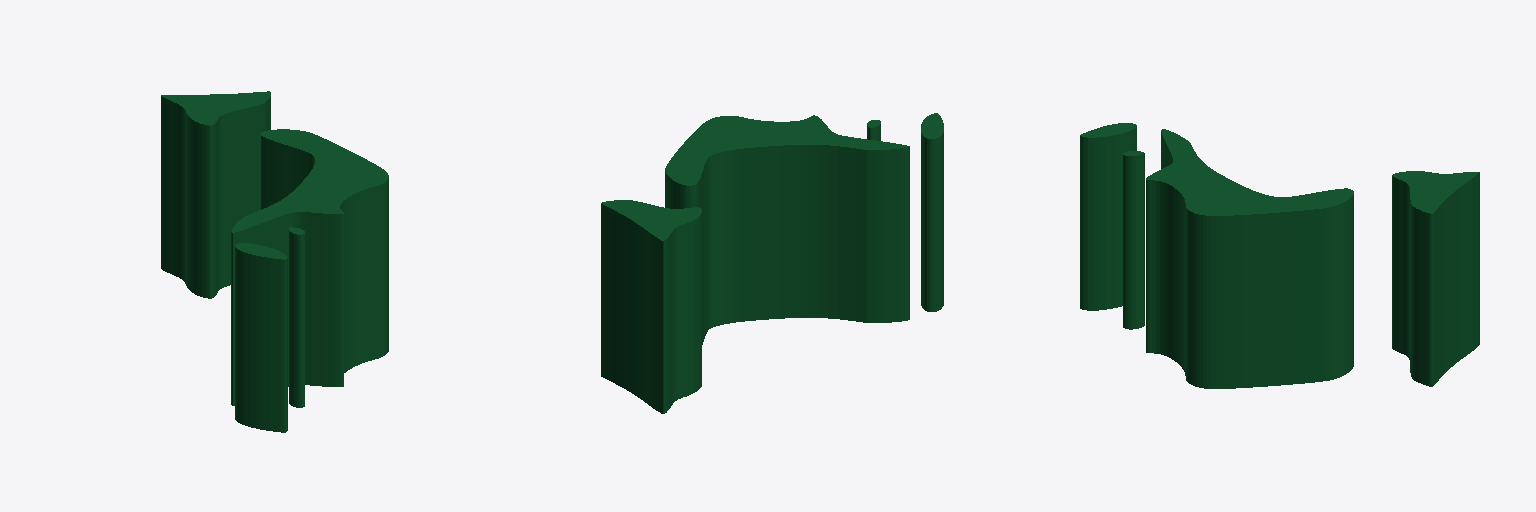
File: Asia_05.obj
The picture shows the model from 3 angles: view 1: azimuth 30°, elevation 25°; view 2: azimuth 150°, elevation 25°; view 3: azimuth 270°, elevation 25°; orthographic projection.
Parts seen in each view (by area): view 1: Asia_05_path4280; view 2: Asia_05_path4280; view 3: Asia_05_path4280.
Part boxes in pixels (left/top/right/bottom): Asia_05_path4280: left=161, top=91, right=388, bottom=432; Asia_05_path4280: left=601, top=113, right=943, bottom=413; Asia_05_path4280: left=1080, top=123, right=1479, bottom=388.
Size of the model in its own units: 0.1156 by 0.1 by 0.209.